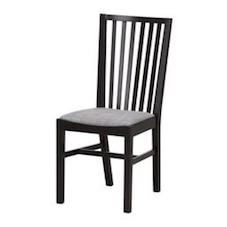chair: (47, 9, 194, 209)
